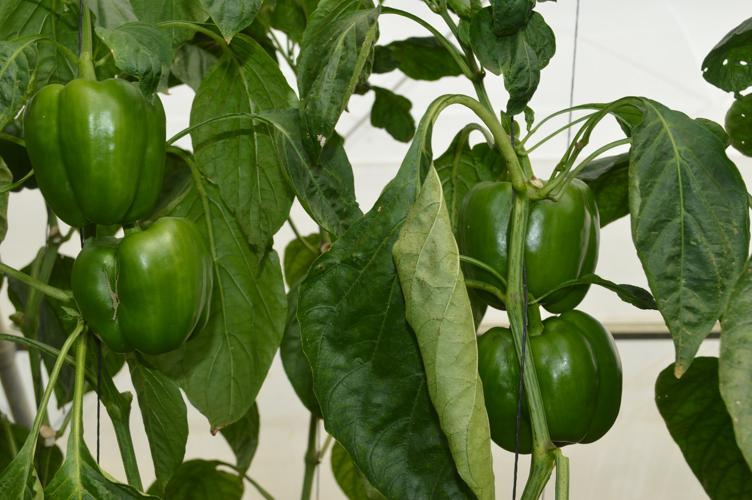BellPepper: (475, 309, 625, 460), (29, 79, 163, 231), (459, 179, 601, 312), (76, 216, 210, 350)
